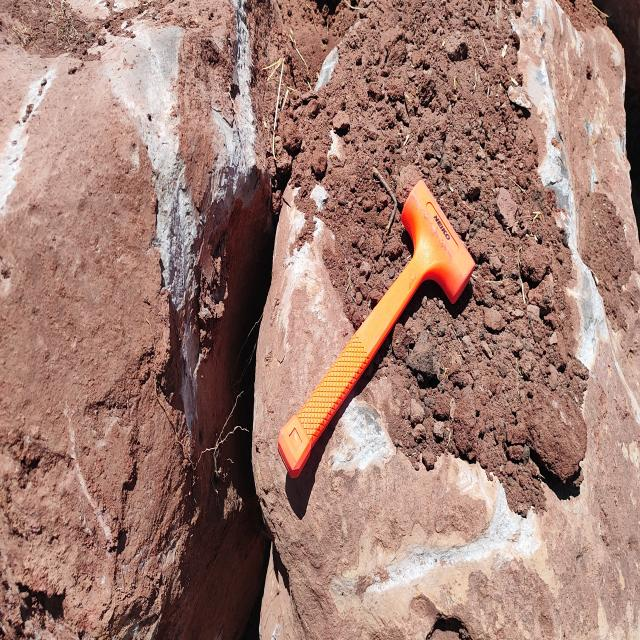Orange_hammer: (276, 177, 476, 480)
